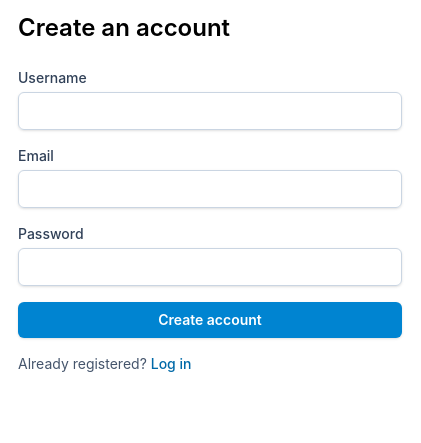
Test: authentication pages › shows a taken username next to the field
Type "misty" into the field labelled "Username" at coordinates (210, 111), box [18,92,402,130]
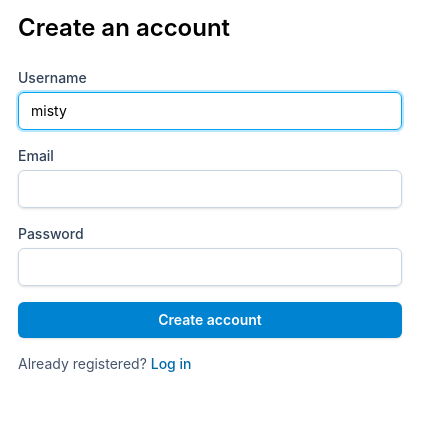
Type "misty@cerulean.city" into the field labelled "Email" at coordinates (210, 189), box [18,170,402,208]
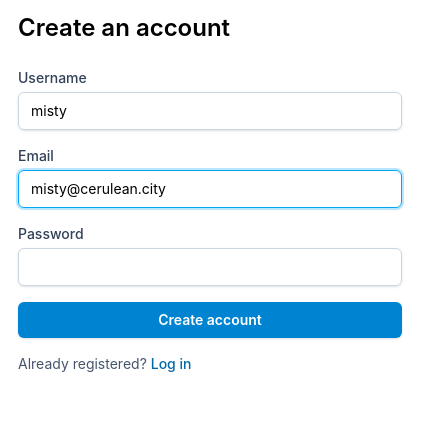
Type "Starmie123!" into the password field labelled "Password" at coordinates (210, 267), box [18,248,402,286]
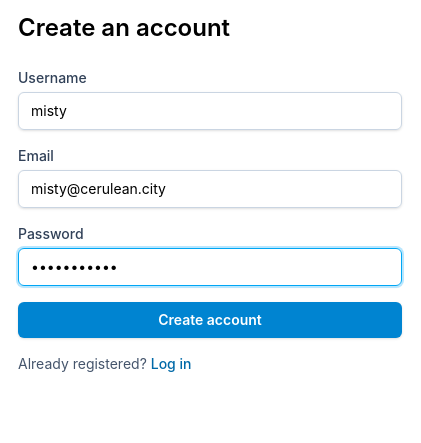
Click the button "Create account" at coordinates (210, 320), box [18,302,402,338]
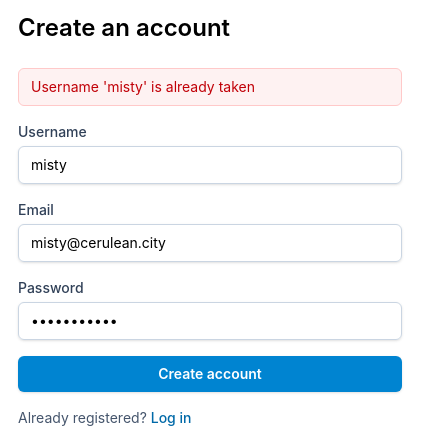
Expected: the message reads "Username 'misty' is already taken", [31,78,255,95]
